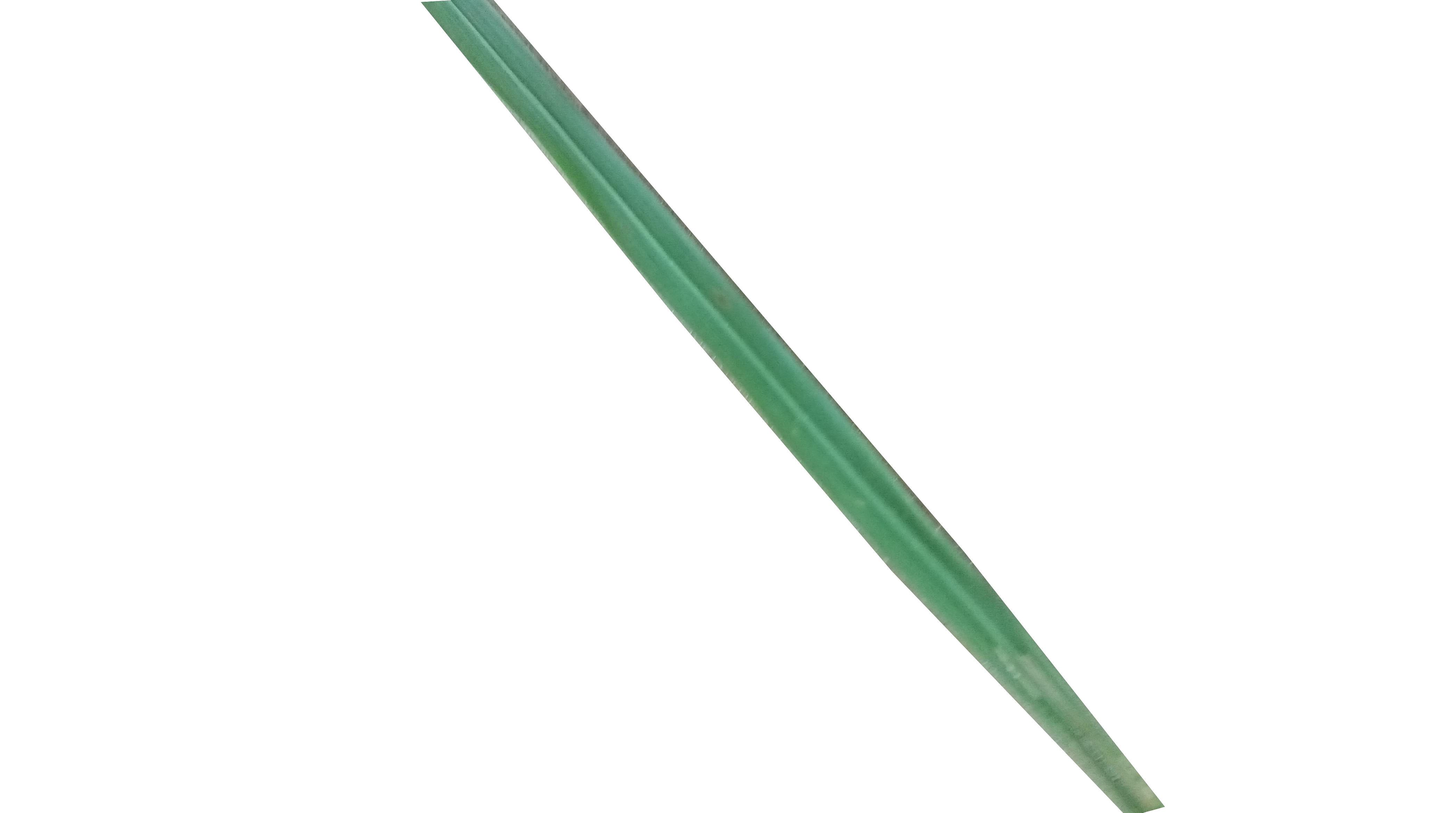Blight: (959, 571, 1174, 813)
